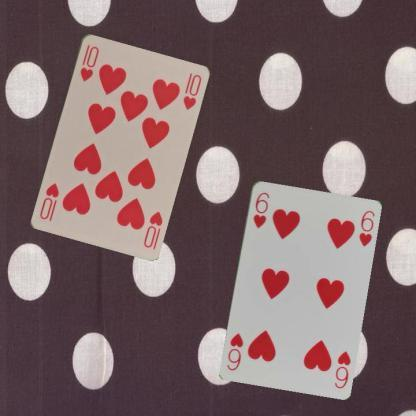10h: (140, 208, 164, 249), (77, 42, 100, 82)
6h: (250, 189, 271, 229), (332, 348, 352, 390)
